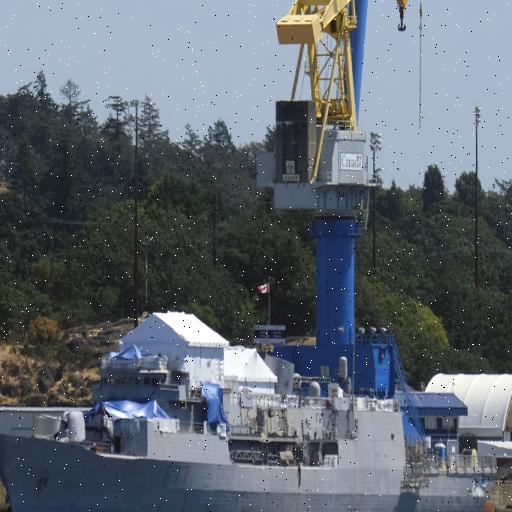Fragata: (1, 344, 504, 512)
